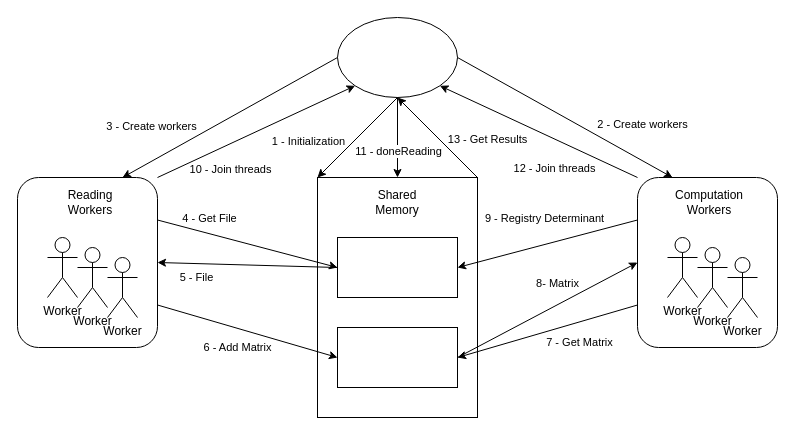
This 795x435 diagram has some shape labels left out. Each missing label, with the centre of its shape:
"Array de FileHandlers" goes at [397,267].
"Circular Queue" goes at [397,357].
"Main" goes at [397,57].
